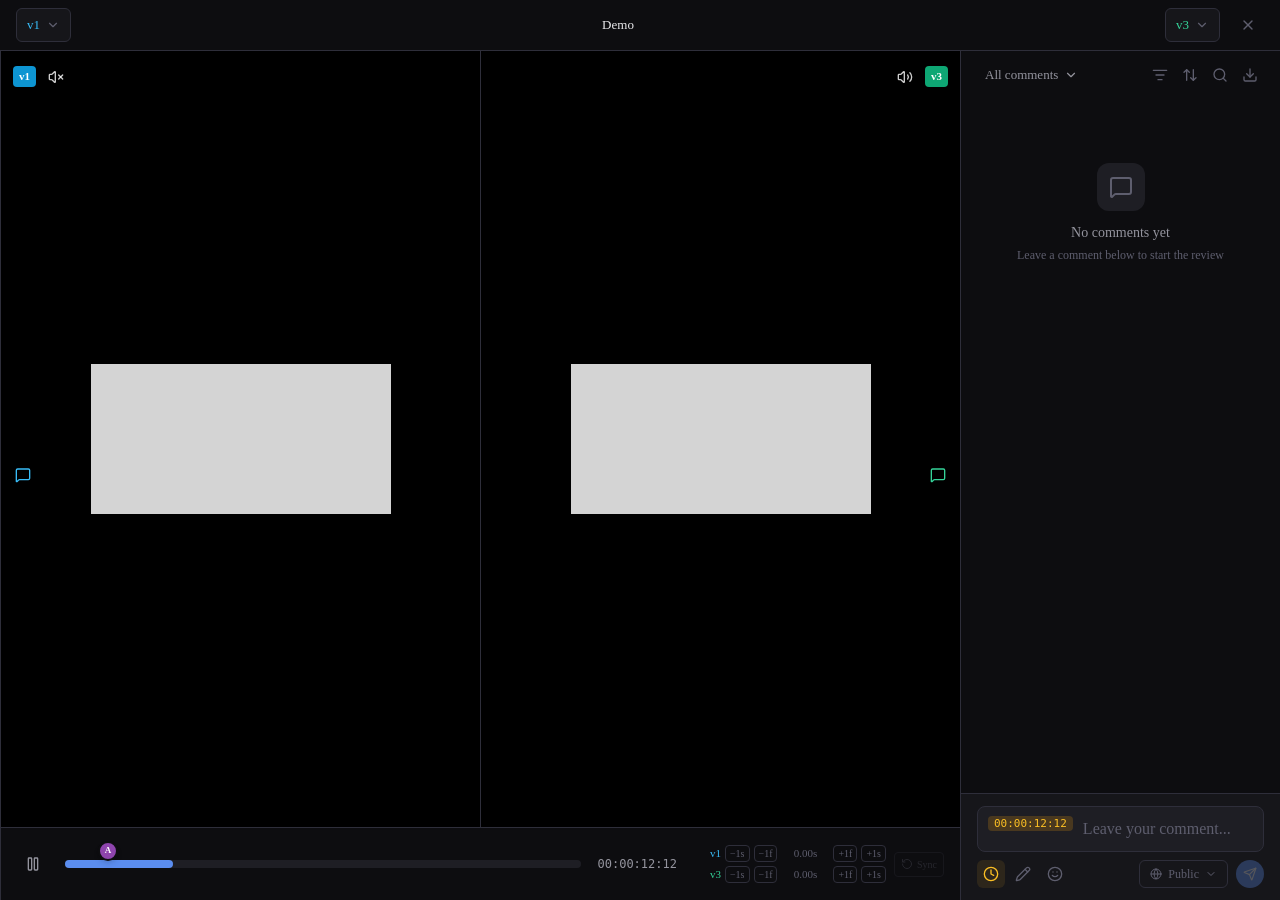
CompareOverlay marker click › seeks with the offset, pauses via toggle (not setIsPlaying), focuses the comment, and opens the closed panel
Check: the text "Fix the color grade" is not shown
Click the element with test id "marker-a-c1": x=108, y=848 [98,836,118,861]
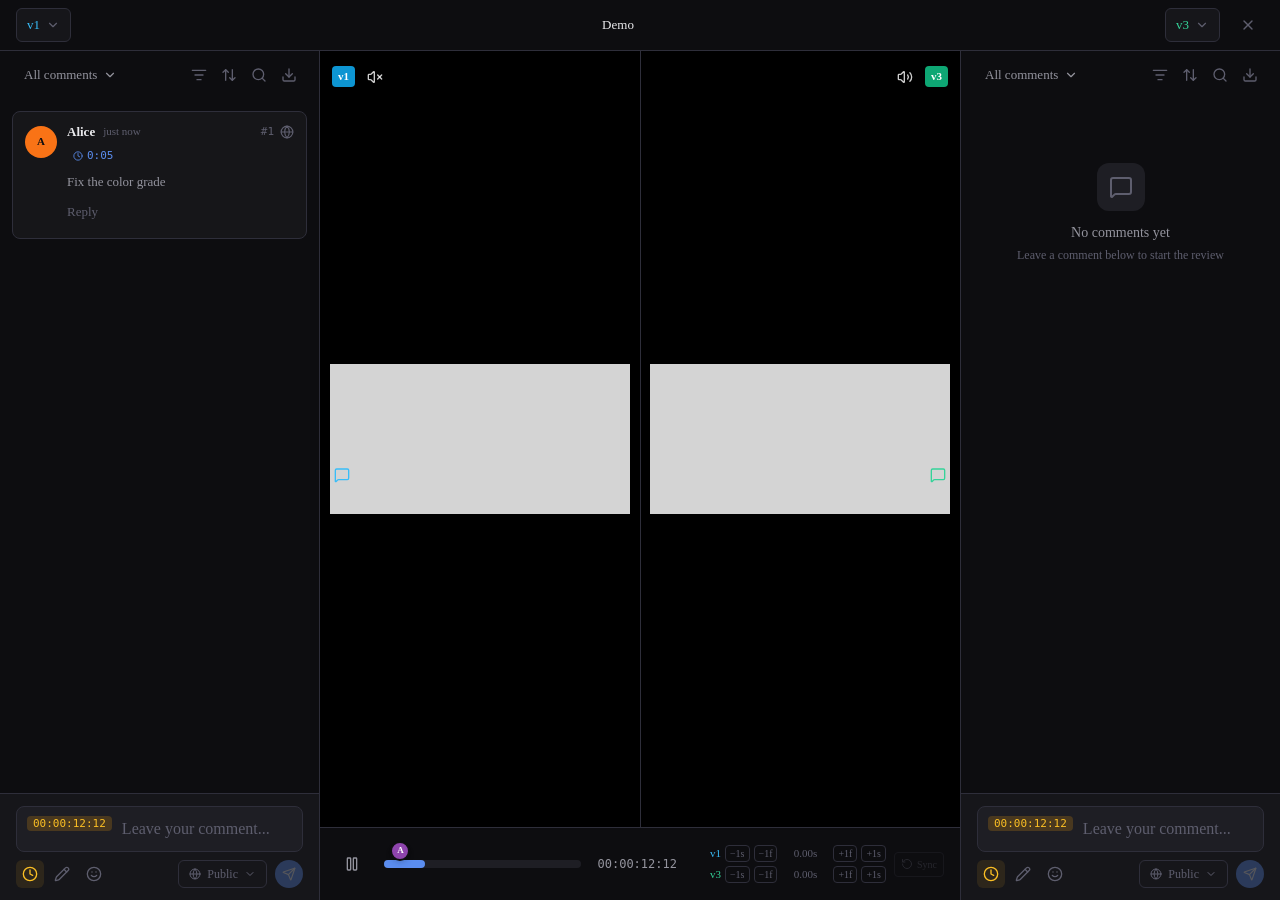
Check: the text "Fix the color grade" is shown, box [67,174,166,188]
